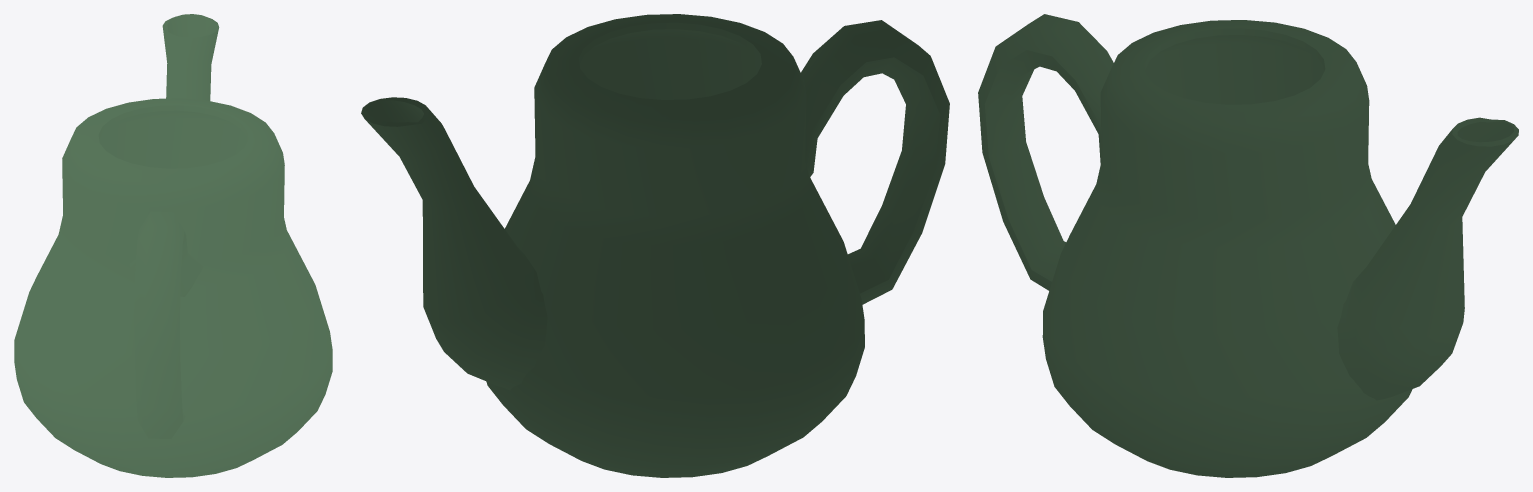
Rendered from Kettle_a20897b6.obj.
The picture shows the model from 3 angles, left to right: view 1: azimuth 30°, elevation 25°; view 2: azimuth 150°, elevation 25°; view 3: azimuth 270°, elevation 25°; orthographic projection. The views are drawn at different scales.
Parts seen in each view (by area): view 1: Kettle_a20897b6; view 2: Kettle_a20897b6; view 3: Kettle_a20897b6.
Boxes of the visible parts, box(x1,y1,x2,y2) form: Kettle_a20897b6: box(14, 14, 332, 477); Kettle_a20897b6: box(361, 14, 949, 477); Kettle_a20897b6: box(978, 14, 1518, 477).
Bounding box in the file's own units: 0.2066 × 0.2144 × 0.2832.
